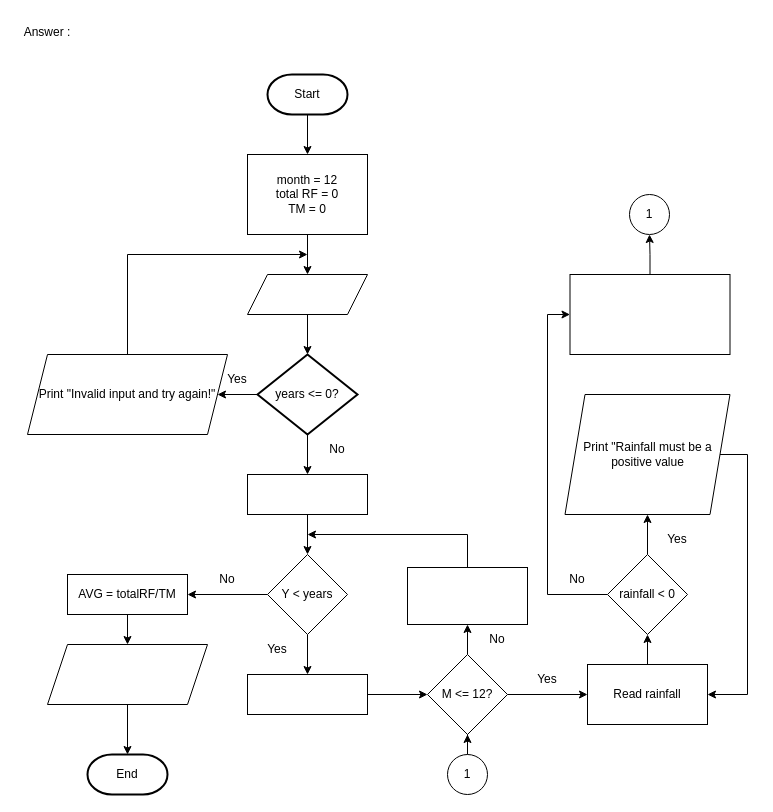
Some shapes in this 773 by 812 pixel diagram are drawn without their labels. Here are the shapes that lost their labels. From the top down, the centre of each, then its label:
At point (307, 294): "Read years".
At point (649, 314): "M = M + 1 TM = TM + 1 totalRF = totalRF + rainfall".
At point (307, 494): "Y = 1".
At point (467, 595): "Y = Y + 1".
At point (127, 674): "Print TM, total RF, AVG".
At point (307, 694): "M = 1".
